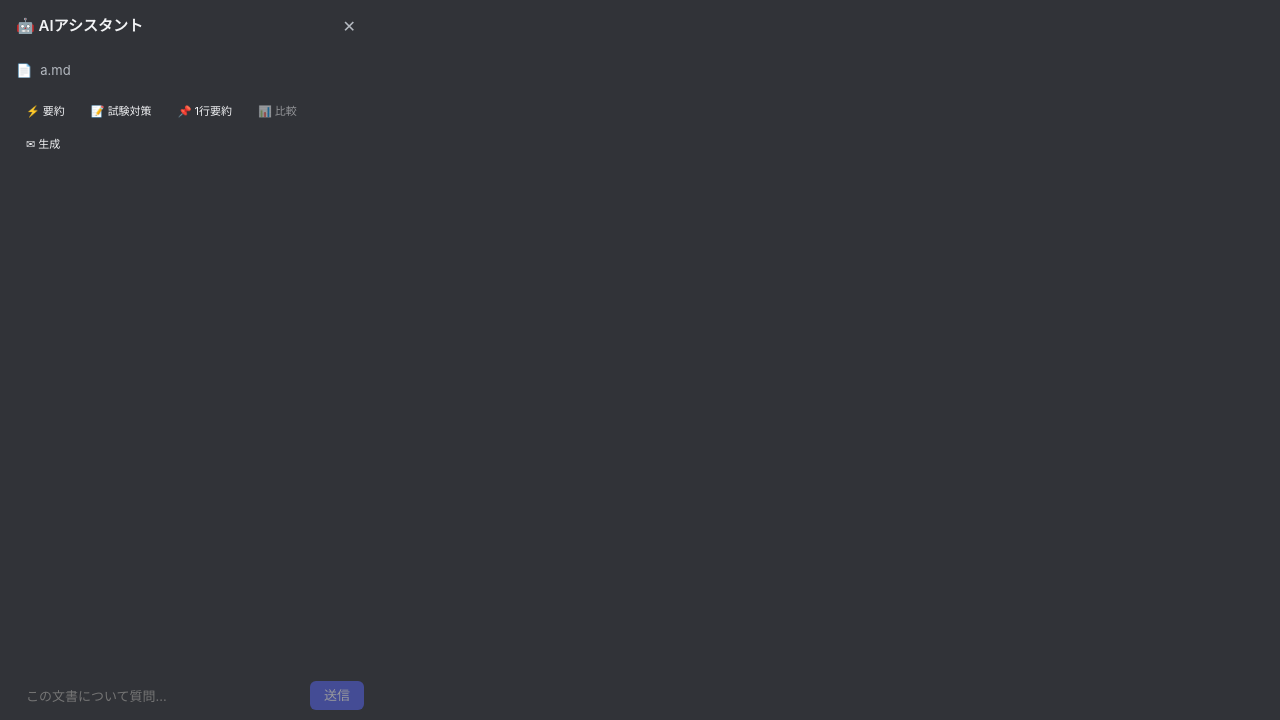
Test: DocAIPanel › opens the ContentGenerator when ✉ 生成 is clicked
Click the button "✉ 生成" at [43, 144], box [16,131,70,157]
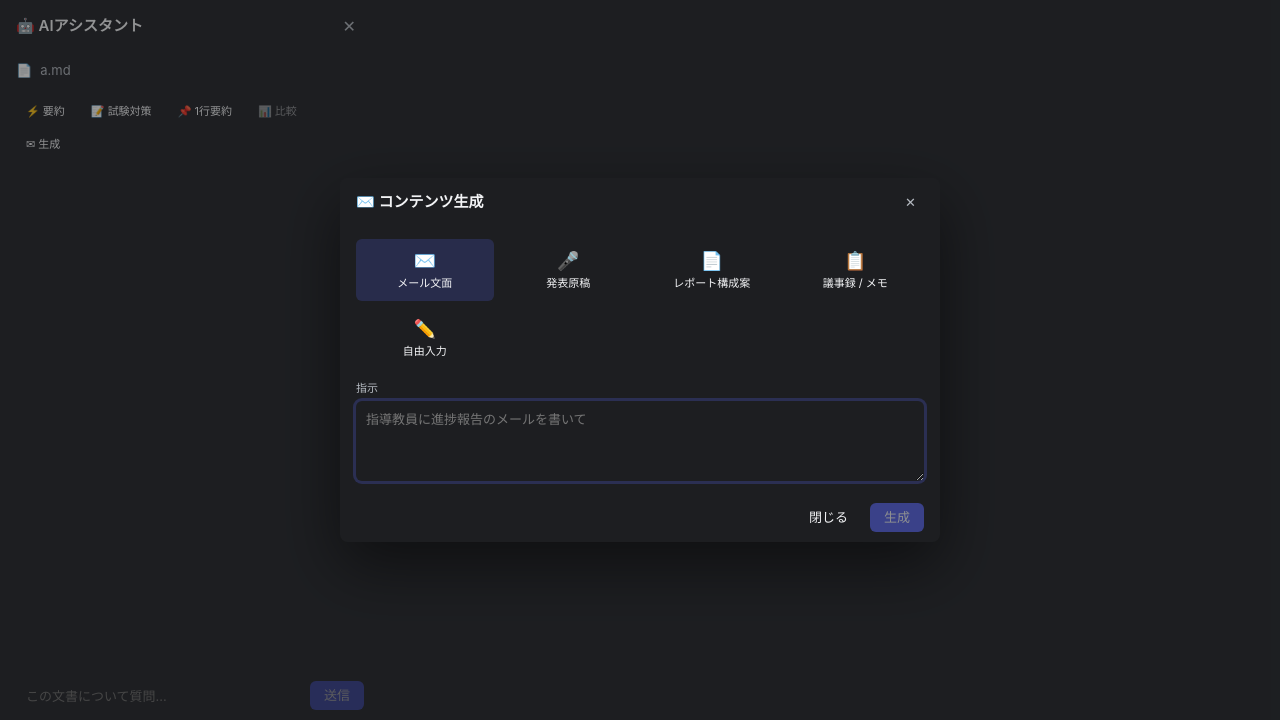
Check: the text "✉️ コンテンツ生成" is shown, box [356,191,484,214]
